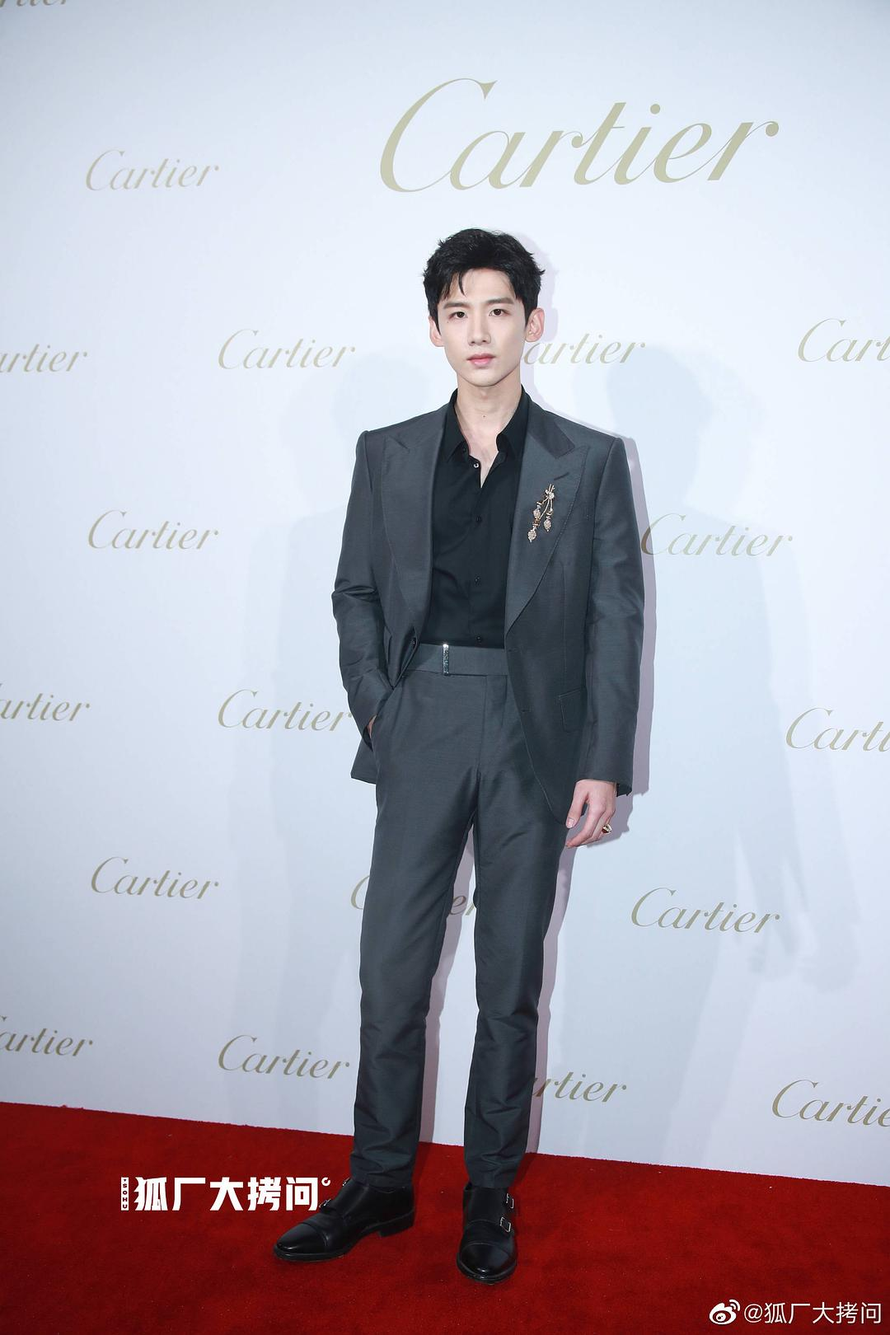up: (285, 212, 676, 1296)
